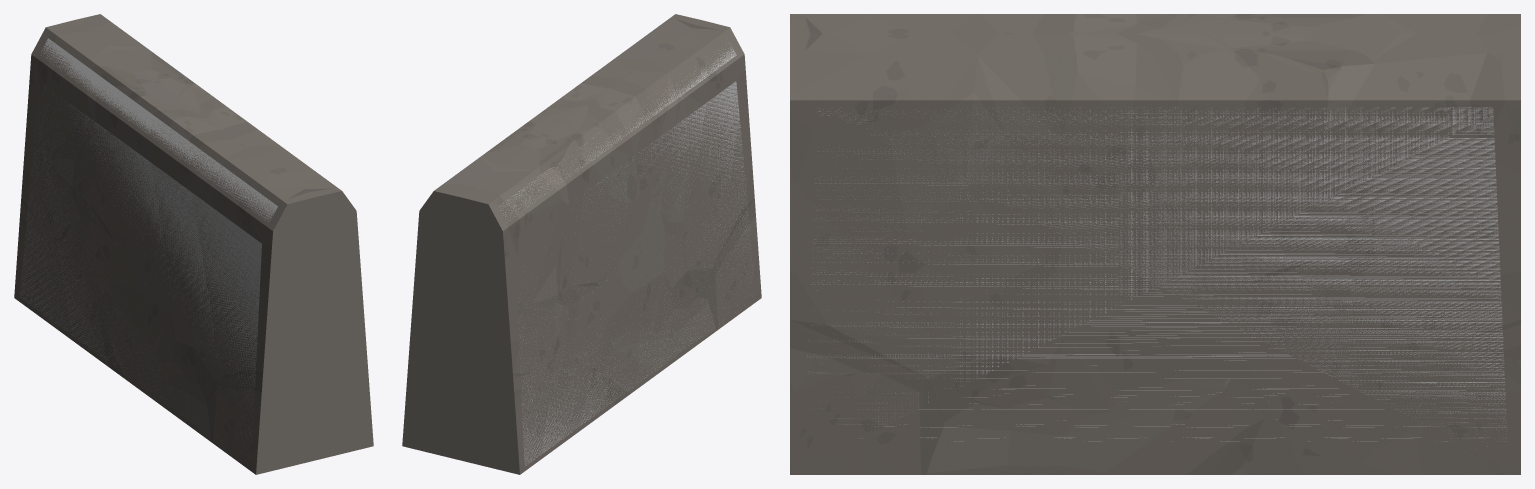
The model's file is SM_Bld_House_Base_Wall_01.fbx.
3 views of the same model, side by side, from view 1: azimuth 30°, elevation 25°; view 2: azimuth 150°, elevation 25°; view 3: azimuth 270°, elevation 25° (orthographic). The views are drawn at different scales.
Visible parts, largest first — view 1: SM_Bld_House_Base_Wall_01, SM_Bld_House_Base_Wall_01_ConvexHulls; view 2: SM_Bld_House_Base_Wall_01, SM_Bld_House_Base_Wall_01_ConvexHulls; view 3: SM_Bld_House_Base_Wall_01, SM_Bld_House_Base_Wall_01_ConvexHulls.
Boxes of the visible parts, left/top/right/bottom form: SM_Bld_House_Base_Wall_01: left=14, top=14, right=373, bottom=474; SM_Bld_House_Base_Wall_01_ConvexHulls: left=20, top=38, right=277, bottom=457; SM_Bld_House_Base_Wall_01: left=402, top=14, right=761, bottom=474; SM_Bld_House_Base_Wall_01_ConvexHulls: left=499, top=43, right=754, bottom=465; SM_Bld_House_Base_Wall_01: left=790, top=14, right=1520, bottom=474; SM_Bld_House_Base_Wall_01_ConvexHulls: left=807, top=107, right=1506, bottom=446.
Size of the model in its own units: 70.31 by 250 by 150.
Materials: 2 (1 with a texture image).
